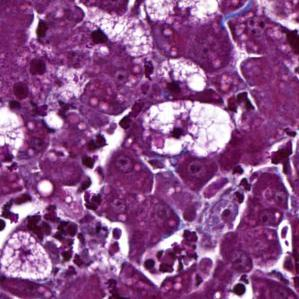ballooning: (142, 98, 237, 161), (0, 228, 54, 283)
